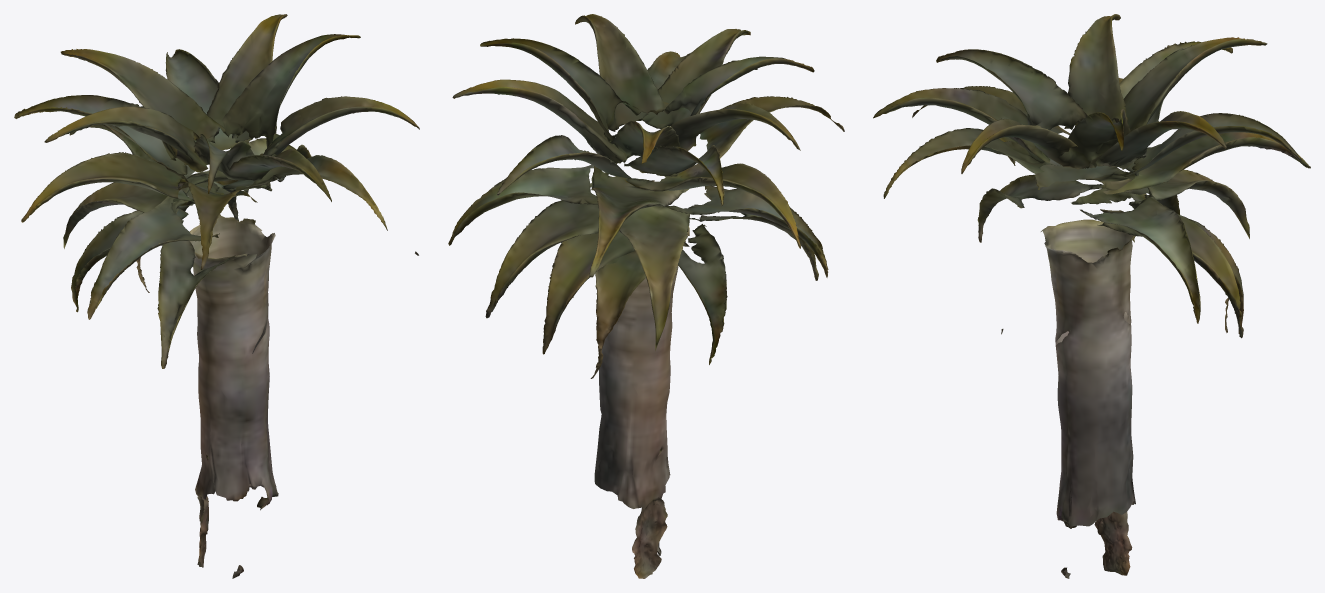
The model's file is quiver_tree_slim.glb.
3 views of the same model, side by side, from view 1: azimuth 30°, elevation 25°; view 2: azimuth 150°, elevation 25°; view 3: azimuth 270°, elevation 25° (orthographic). The views are drawn at different scales.
Visible parts, largest first — view 1: quiver_tree_02; view 2: quiver_tree_02; view 3: quiver_tree_02.
Part boxes in pixels (bbox=[...]): quiver_tree_02: bbox=[14, 14, 419, 578]; quiver_tree_02: bbox=[448, 14, 844, 578]; quiver_tree_02: bbox=[873, 14, 1310, 578].
Bounding box in the file's own units: 0.7967 × 1.15 × 0.8808.
Materials: 1 (1 with a texture image).
